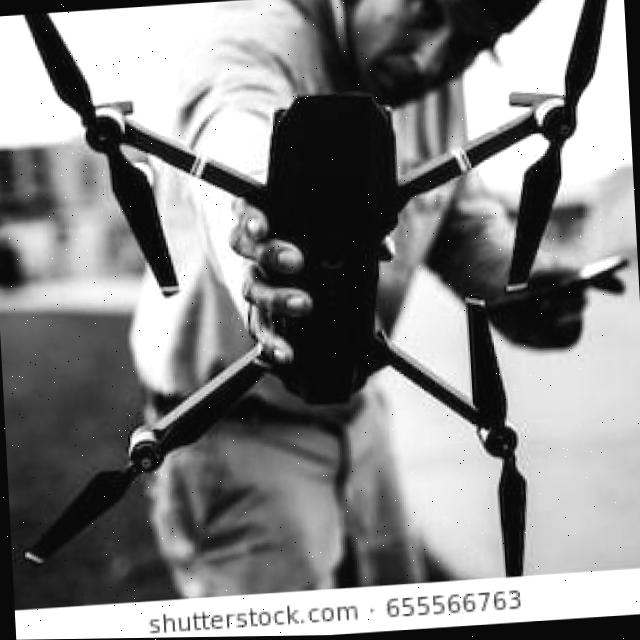drone: (0, 4, 640, 608)
